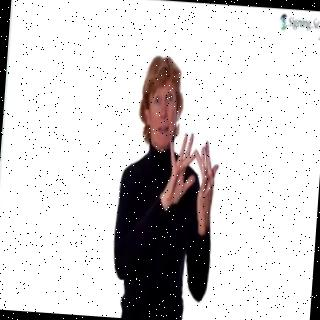Internet: (109, 50, 223, 320)
